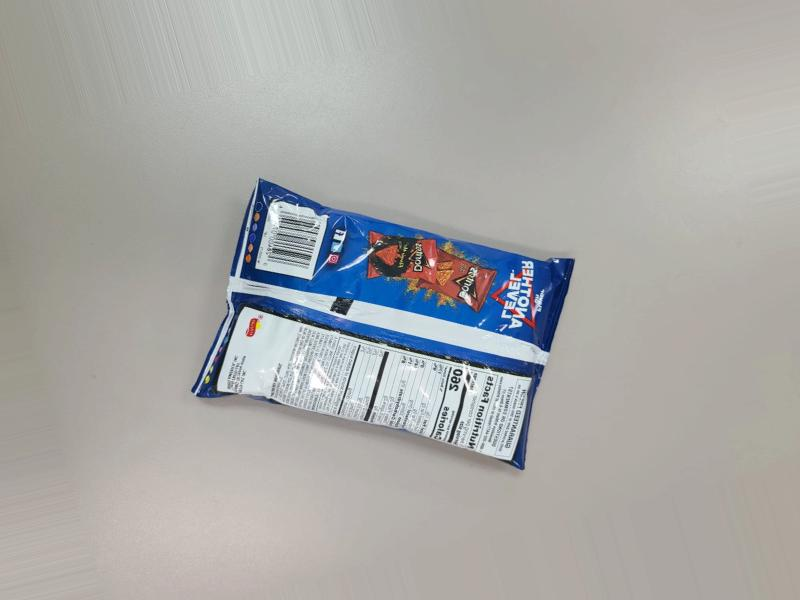doritos: (180, 191, 543, 489)
